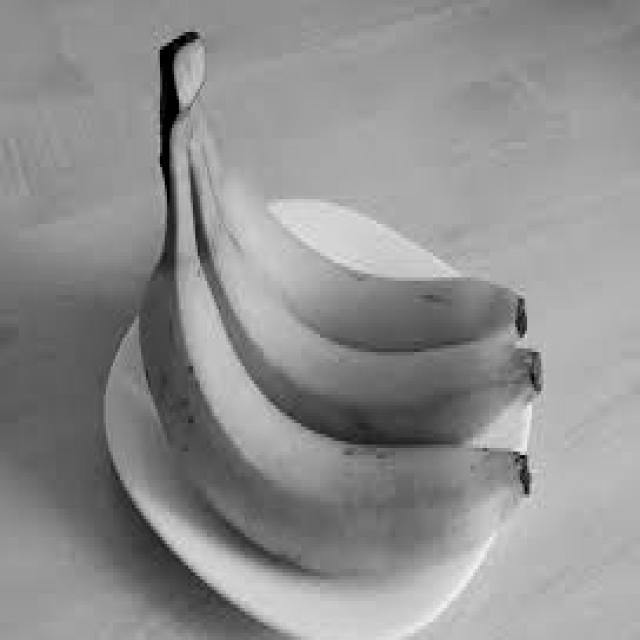pisang: (144, 77, 544, 563)
